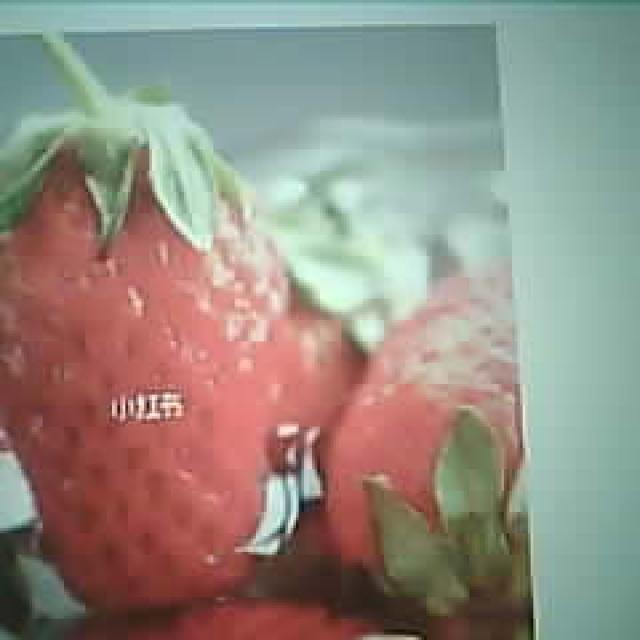ripe: (0, 114, 284, 606)
